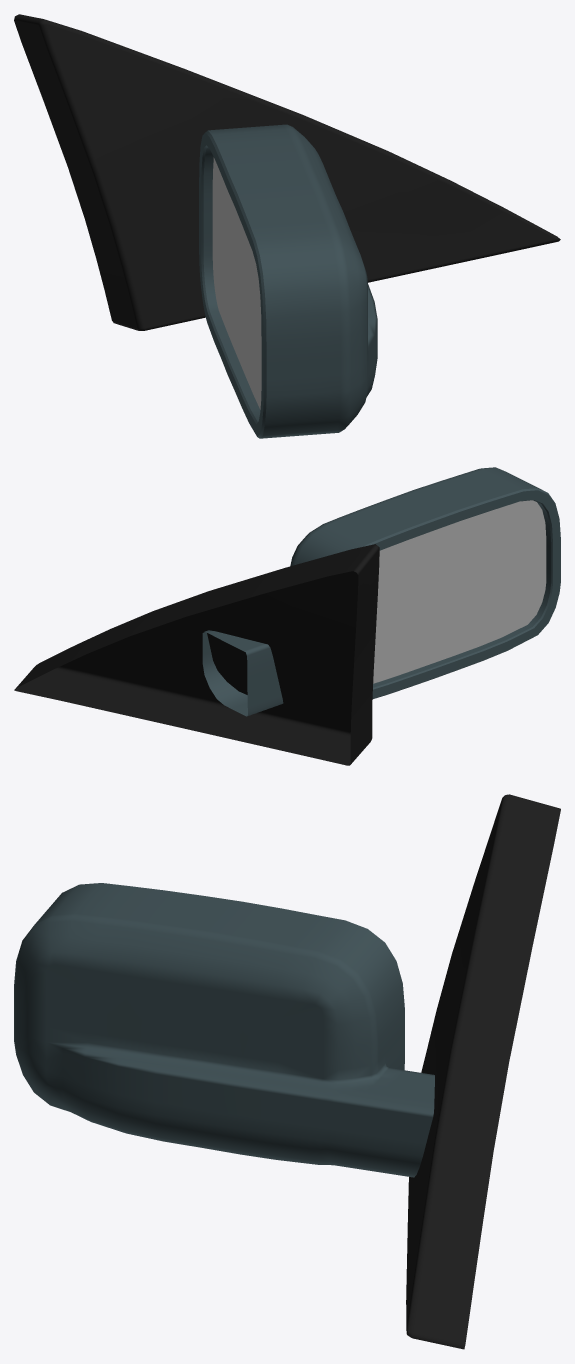
3 views of the same model, one above another, from view 1: azimuth 30°, elevation 25°; view 2: azimuth 150°, elevation 25°; view 3: azimuth 270°, elevation 25° (orthographic). The views are drawn at different scales.
Parts seen in each view (by area): view 1: P222_15_261I_R_2_D_P222_15_261I_R, P222_15_261I_R_P222_15_261I_R_1_DaS, P222_15_261I_R_P222_15_261I_R_3_DTaSI, P222_15_261I_R_P222_15_261I_R_1_DaS_E; view 2: P222_15_261I_R_2_D_P222_15_261I_R, P222_15_261I_R_P222_15_261I_R_3_DTaSI, P222_15_261I_R_P222_15_261I_R_1_DaS, P222_15_261I_R_P222_15_261I_R_1_DaS_E; view 3: P222_15_261I_R_P222_15_261I_R_1_DaS, P222_15_261I_R_2_D_P222_15_261I_R.
Part boxes in pixels (x1,y1,x2,y2): P222_15_261I_R_2_D_P222_15_261I_R: [14, 14, 560, 330]; P222_15_261I_R_P222_15_261I_R_1_DaS: [199, 124, 377, 438]; P222_15_261I_R_P222_15_261I_R_3_DTaSI: [212, 157, 261, 409]; P222_15_261I_R_P222_15_261I_R_1_DaS_E: [201, 130, 266, 438]; P222_15_261I_R_2_D_P222_15_261I_R: [14, 544, 379, 765]; P222_15_261I_R_P222_15_261I_R_3_DTaSI: [373, 500, 546, 683]; P222_15_261I_R_P222_15_261I_R_1_DaS: [202, 467, 560, 716]; P222_15_261I_R_P222_15_261I_R_1_DaS_E: [364, 488, 559, 698]; P222_15_261I_R_P222_15_261I_R_1_DaS: [14, 883, 434, 1177]; P222_15_261I_R_2_D_P222_15_261I_R: [406, 794, 560, 1349].
Size of the model in its own units: 25.82 by 16.16 by 25.03.
